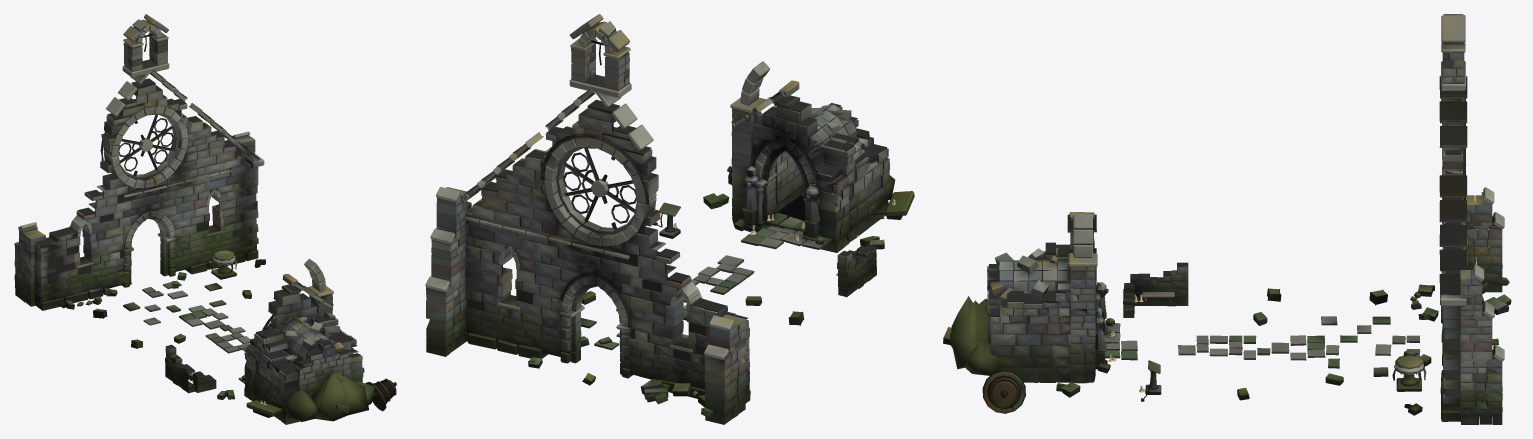
Rendered from hollow_crypt_entrance.glb.
3 views of the same model, side by side, from view 1: azimuth 30°, elevation 25°; view 2: azimuth 150°, elevation 25°; view 3: azimuth 270°, elevation 25° (orthographic). The views are drawn at different scales.
Parts seen in each view (by area): view 1: Entrance_Gable, Entrance_StairHouse, Entrance_Details; view 2: Entrance_Gable, Entrance_StairHouse, Entrance_Details; view 3: Entrance_Gable, Entrance_StairHouse, Entrance_Details.
Part boxes in pixels (left/top/right/bottom): Entrance_Gable: left=14, top=14, right=265, bottom=310; Entrance_StairHouse: left=217, top=258, right=374, bottom=424; Entrance_Details: left=93, top=250, right=396, bottom=417; Entrance_Gable: left=425, top=14, right=750, bottom=424; Entrance_StairHouse: left=703, top=61, right=895, bottom=252; Entrance_Details: left=580, top=166, right=914, bottom=350; Entrance_Gable: left=1403, top=14, right=1511, bottom=424; Entrance_StairHouse: left=943, top=212, right=1116, bottom=397; Entrance_Details: left=982, top=262, right=1431, bottom=413.
Bounding box in the file's own units: 20 × 23.61 × 33.97.
